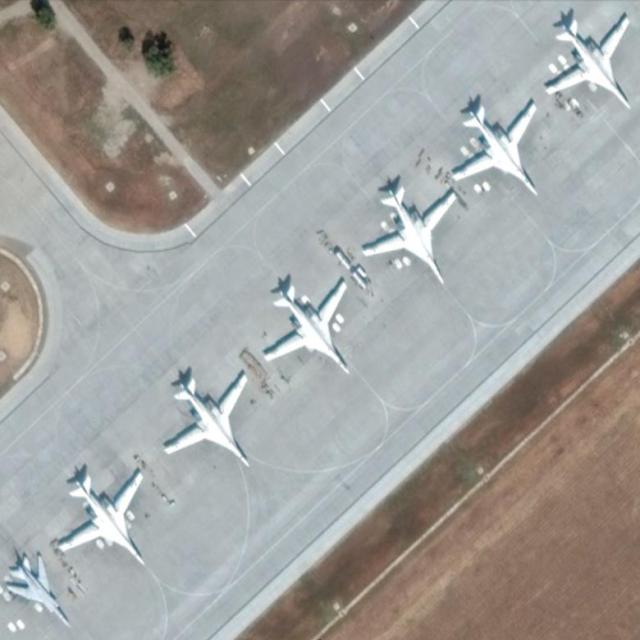fighter jet: (246, 274, 364, 380), (162, 374, 276, 473), (531, 18, 640, 116), (363, 172, 457, 284), (58, 466, 160, 568), (450, 109, 549, 210), (5, 542, 69, 640)
